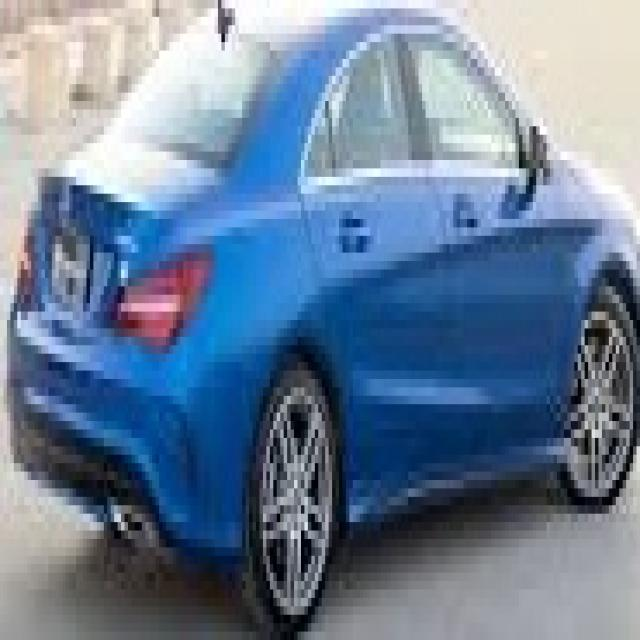blue: (3, 0, 639, 606)
